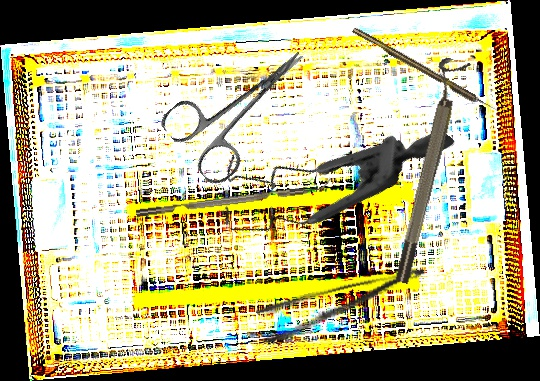Chopper: (134, 176, 333, 217)
Dressing Forceps: (254, 264, 434, 345)
Fixation Ring: (381, 55, 472, 286)
Hook Surgical: (351, 25, 499, 116)
Iris Scissors: (156, 22, 333, 190)
Speculum: (195, 37, 456, 302)
